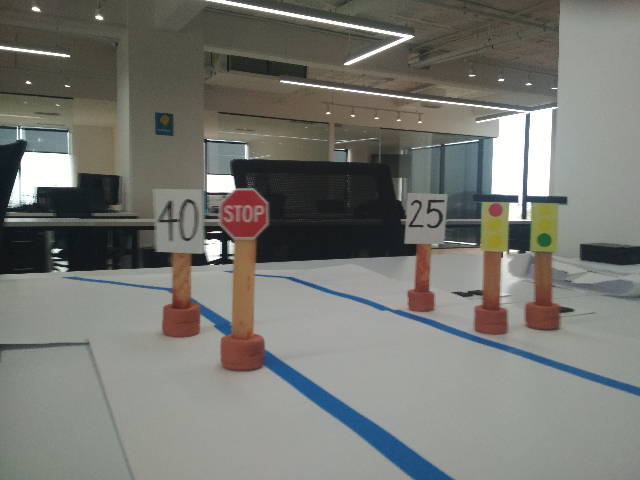Green Traffic Light: (523, 192, 569, 256)
Red Traffic Light: (469, 192, 520, 256)
Speed Limit 25: (401, 190, 449, 247)
Speed Limit 40: (150, 186, 206, 255)
Stop Sign: (216, 188, 271, 241)
